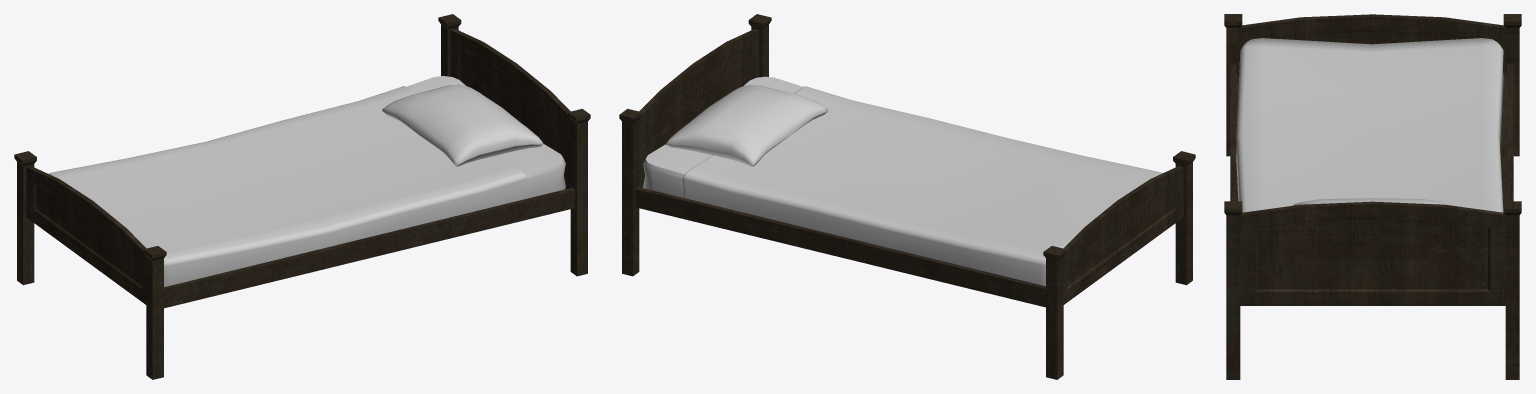
The model's file is bed_5_4.obj.
The picture shows the model from 3 angles, left to right: view 1: azimuth 30°, elevation 25°; view 2: azimuth 150°, elevation 25°; view 3: azimuth 270°, elevation 25°; orthographic projection. The views are drawn at different scales.
Parts seen in each view (by area): view 1: bed_5_4; view 2: bed_5_4; view 3: bed_5_4.
Boxes of the visible parts, bbox=[...] form: bed_5_4: bbox=[14, 14, 590, 379]; bed_5_4: bbox=[619, 14, 1195, 379]; bed_5_4: bbox=[1224, 14, 1521, 379].
Bounding box in the file's own units: 2.74 × 0.9621 × 1.49.
